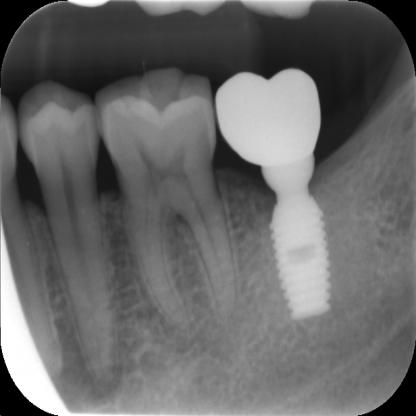Bicon: (266, 189, 334, 325)
